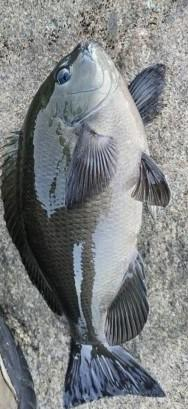fish: (1, 37, 171, 408)
